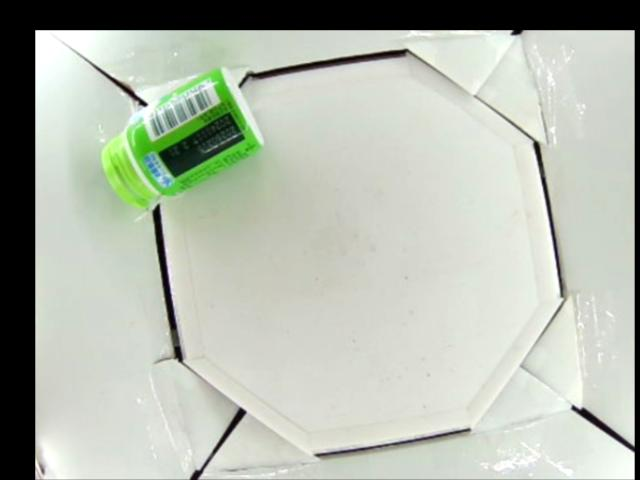Bottle: (99, 63, 267, 210)
